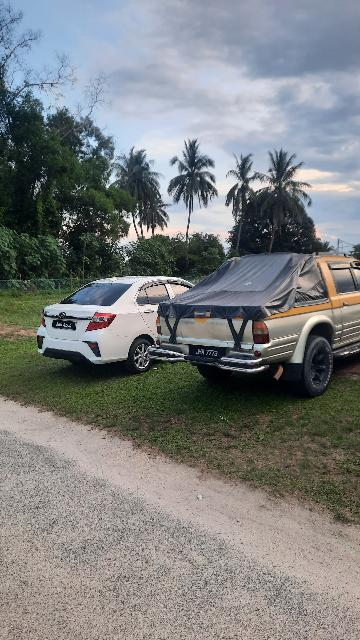License_Plate: (187, 343, 229, 360), (51, 319, 79, 333)
car: (156, 255, 360, 401), (31, 276, 204, 376)
